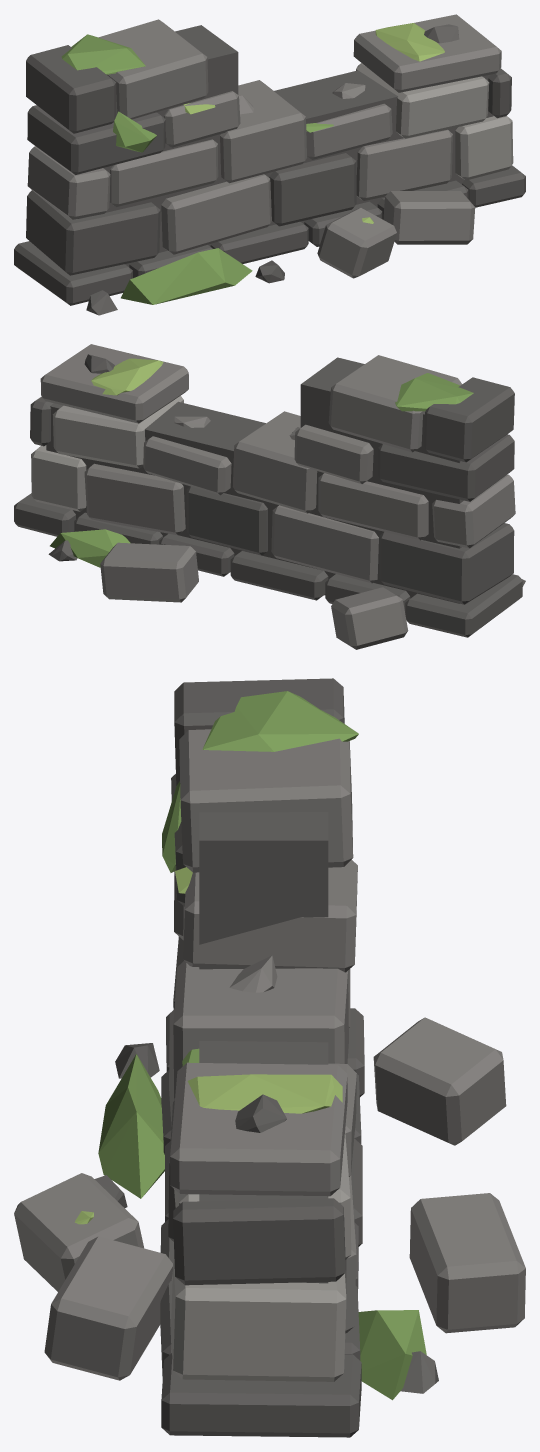
File: ruin_wall.glb
3 views of the same model, one above another, from view 1: azimuth 30°, elevation 25°; view 2: azimuth 150°, elevation 25°; view 3: azimuth 270°, elevation 25° (orthographic). The views are drawn at different scales.
Parts seen in each view (by area): view 1: RuinWall; view 2: RuinWall; view 3: RuinWall.
Part boxes in pixels (bbox=[...]): RuinWall: bbox=[14, 14, 525, 315]; RuinWall: bbox=[14, 344, 525, 649]; RuinWall: bbox=[14, 678, 525, 1437].
Size of the model in its own units: 4.33 by 2.05 by 2.38.
